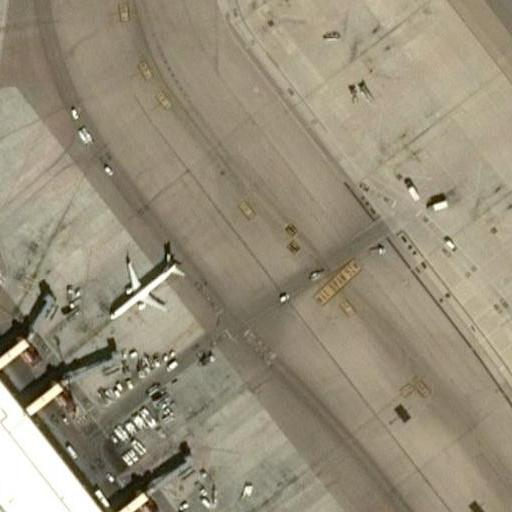Aircraft: (102, 246, 184, 322), (0, 1, 1, 76)
